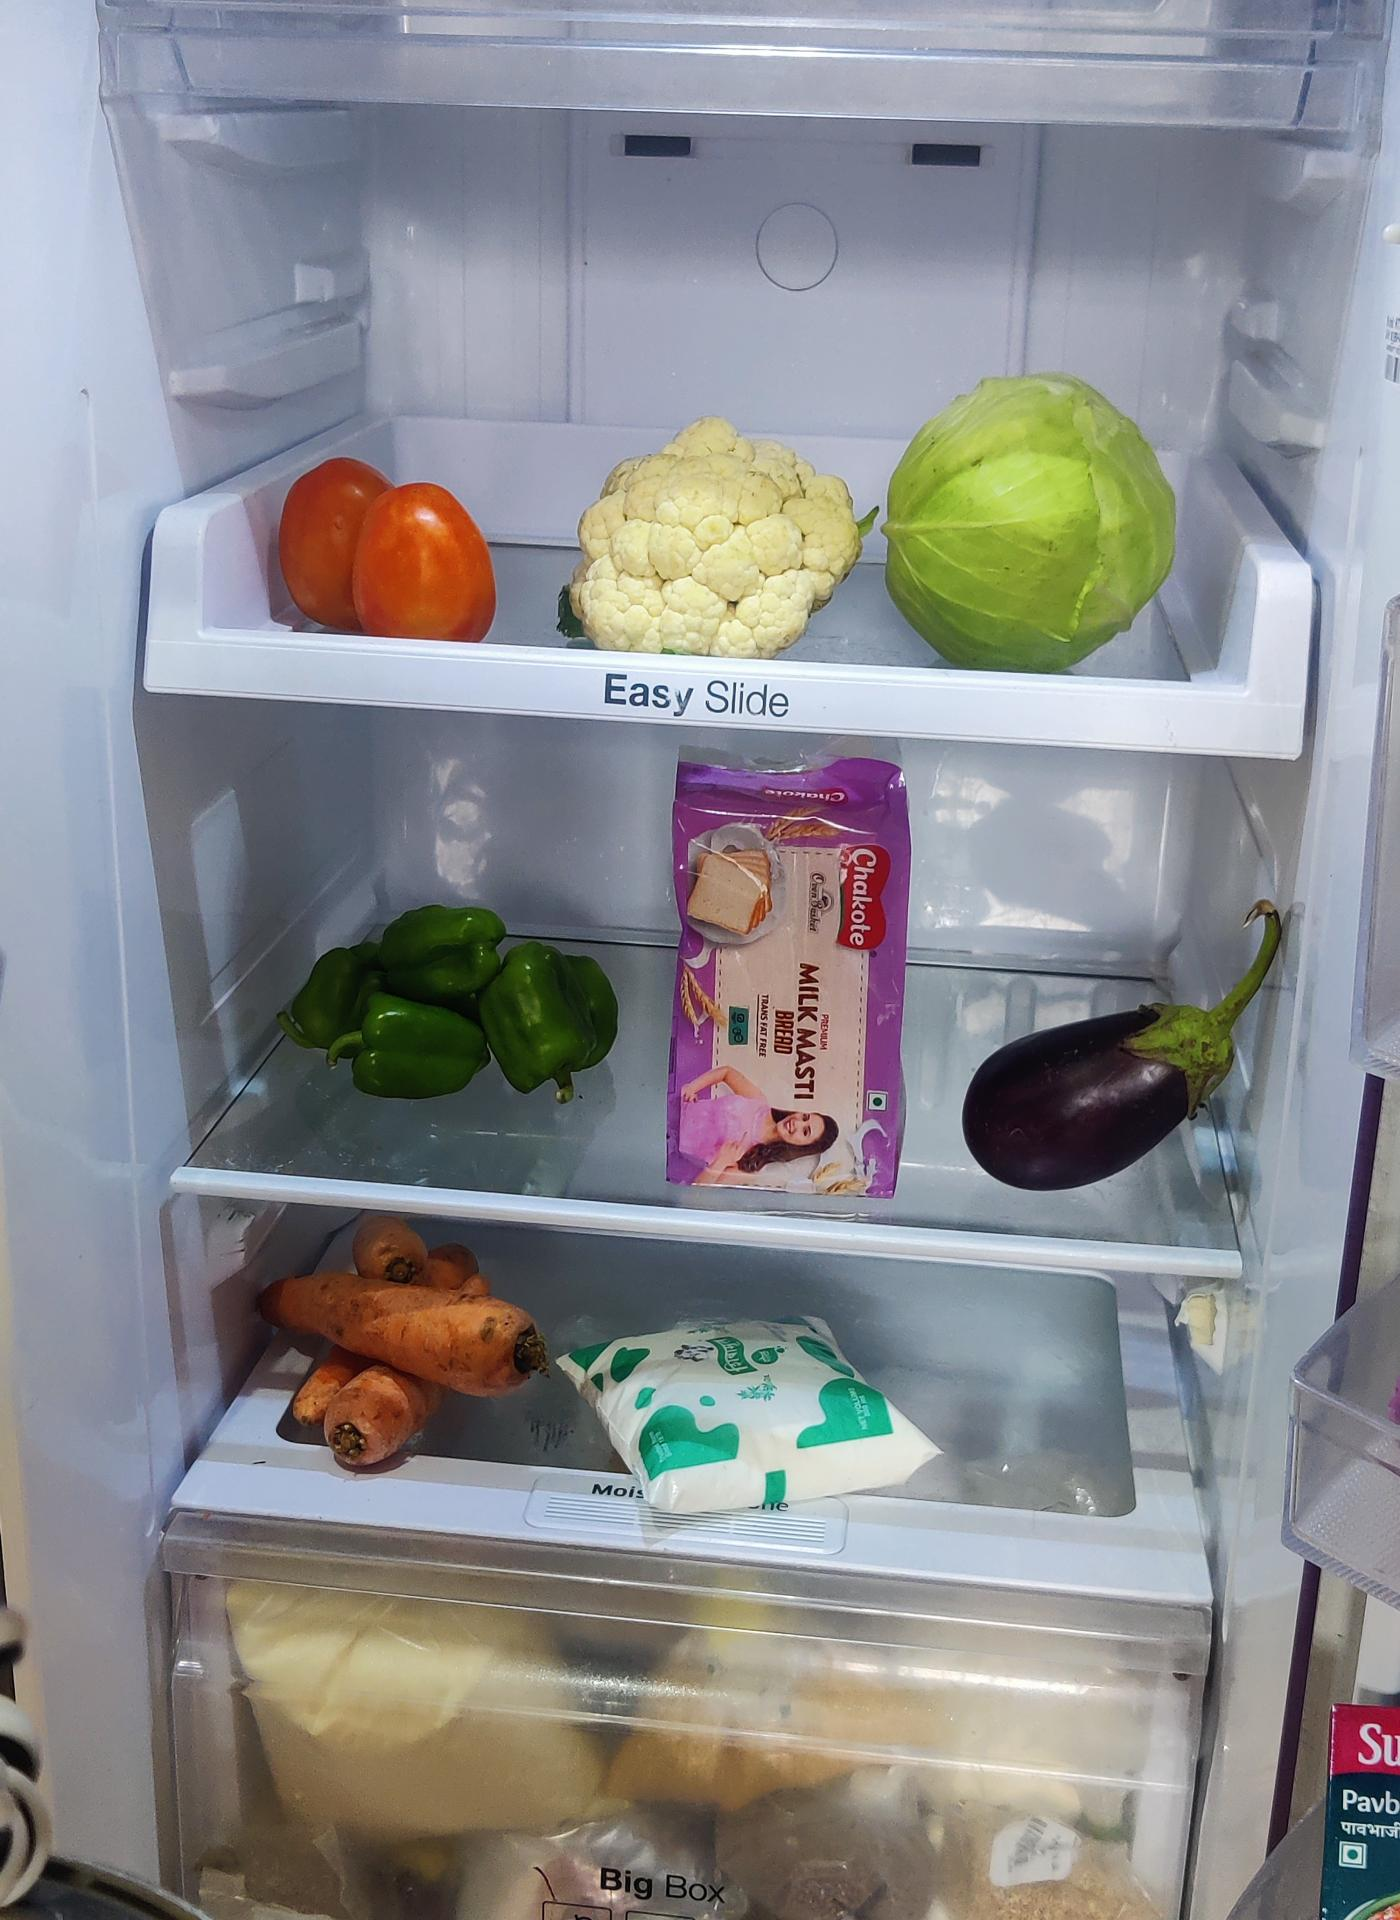bread: (663, 756, 923, 1201)
brinjal: (954, 1005, 1245, 1196)
cabbage: (886, 370, 1185, 665)
capsicum: (280, 903, 619, 1105)
carrots: (270, 1212, 553, 1462)
cauliflower: (571, 425, 871, 666)
milk: (568, 1312, 942, 1513)
tomato: (283, 462, 505, 650)
